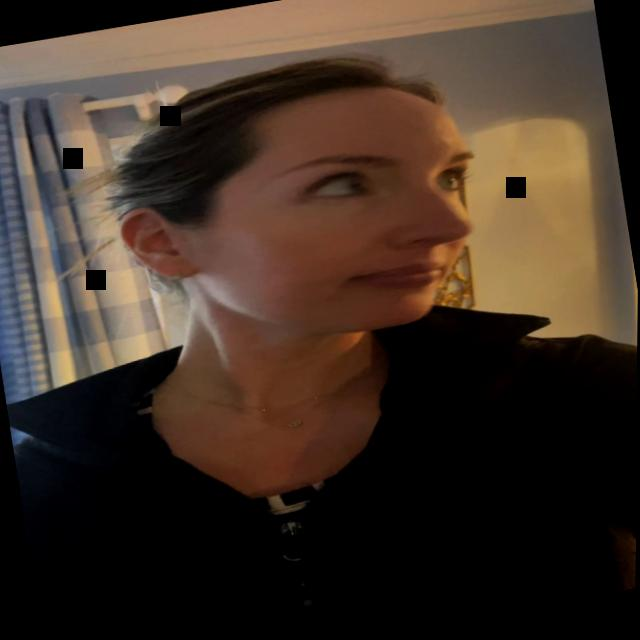NO-Mask: (117, 51, 493, 381)
